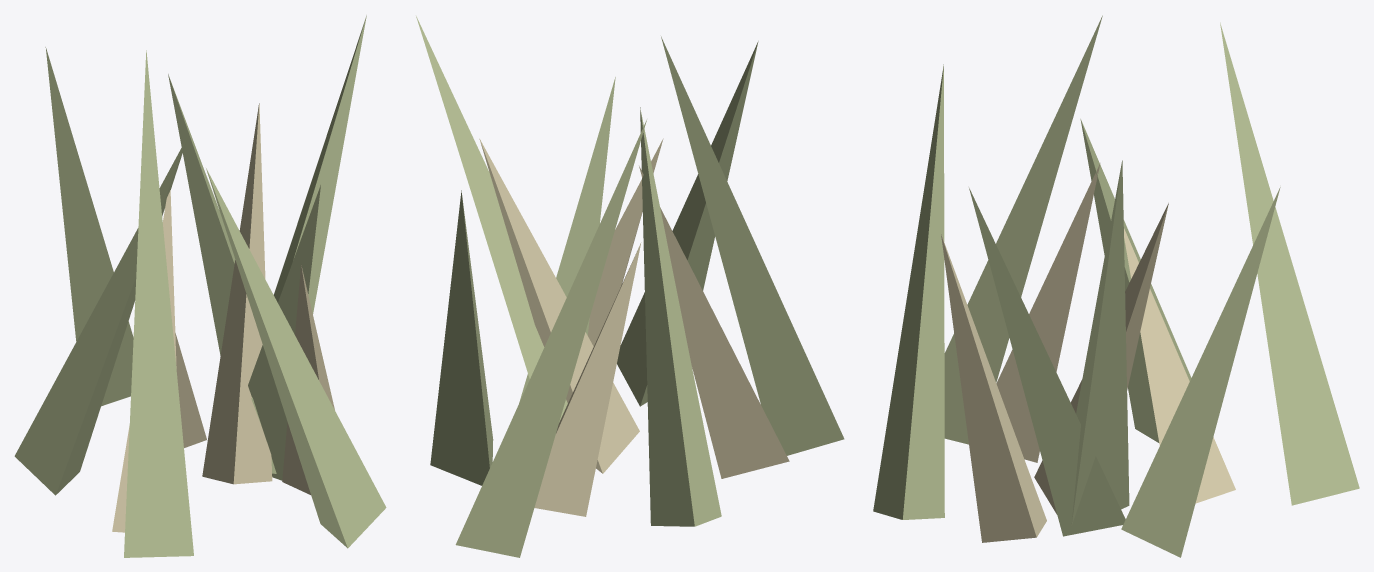
The model's file is dune_grass.glb.
3 views of the same model, side by side, from view 1: azimuth 30°, elevation 25°; view 2: azimuth 150°, elevation 25°; view 3: azimuth 270°, elevation 25° (orthographic). The views are drawn at different scales.
Parts seen in each view (by area): view 1: dune_grass; view 2: dune_grass; view 3: dune_grass.
Part boxes in pixels (x1,y1,x2,y2): dune_grass: (14,15,386,557); dune_grass: (416,16,844,557); dune_grass: (873,15,1359,557).
Size of the model in its own units: 0.4236 by 0.5515 by 0.5246.
